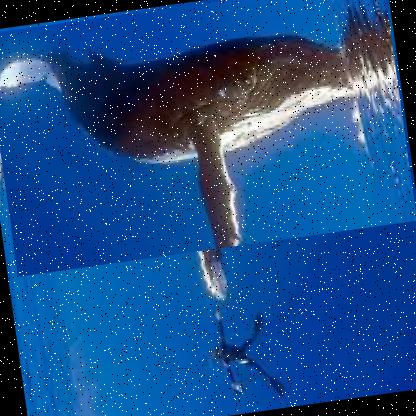blue_whale: (0, 0, 415, 276)
